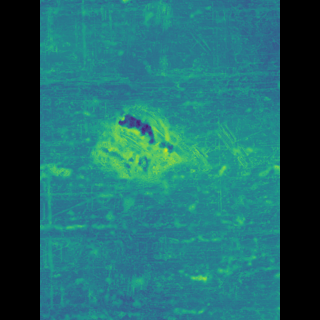Loch: (110, 106, 183, 187), (183, 141, 209, 216), (201, 126, 231, 167)
